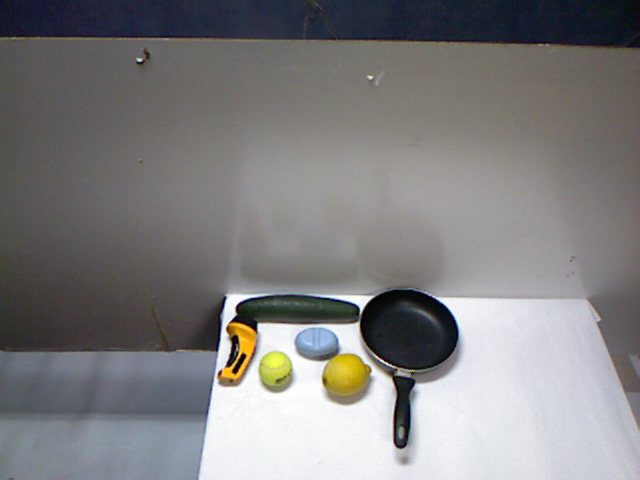cloroplano: (228, 247, 297, 362)
coca: (370, 278, 407, 353)
esponja: (292, 353, 356, 403)
ketchup: (319, 281, 362, 343)
mantequilla: (219, 364, 279, 406)
pelota: (363, 360, 407, 405)
